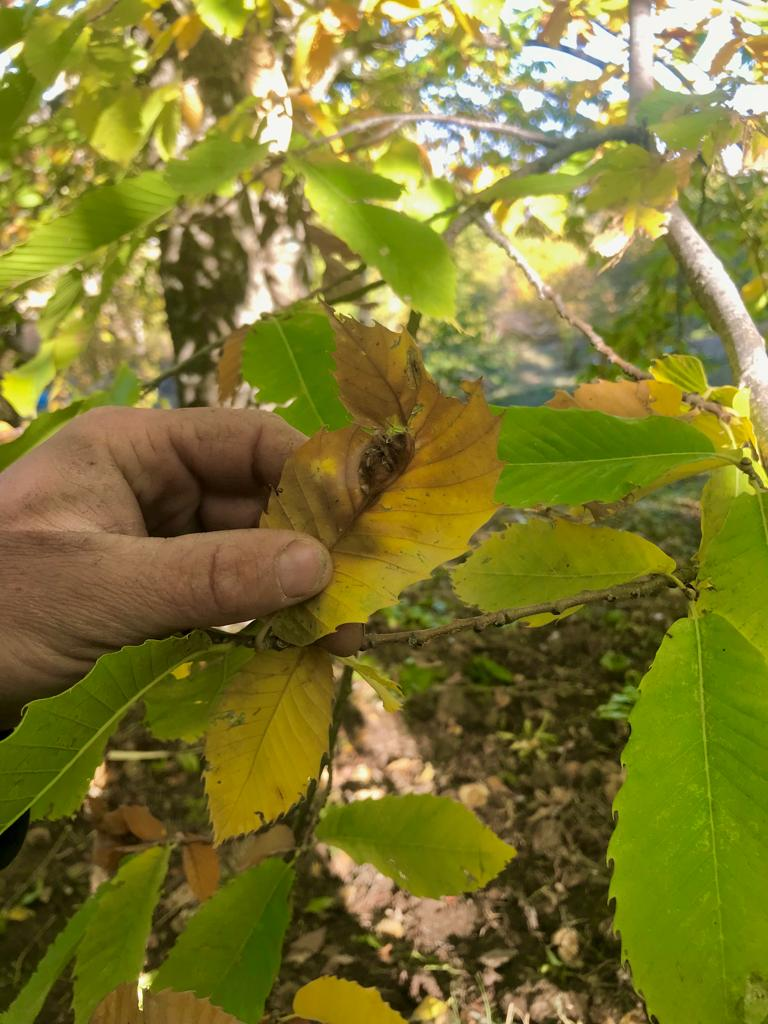galarisi: (335, 285, 478, 544)
